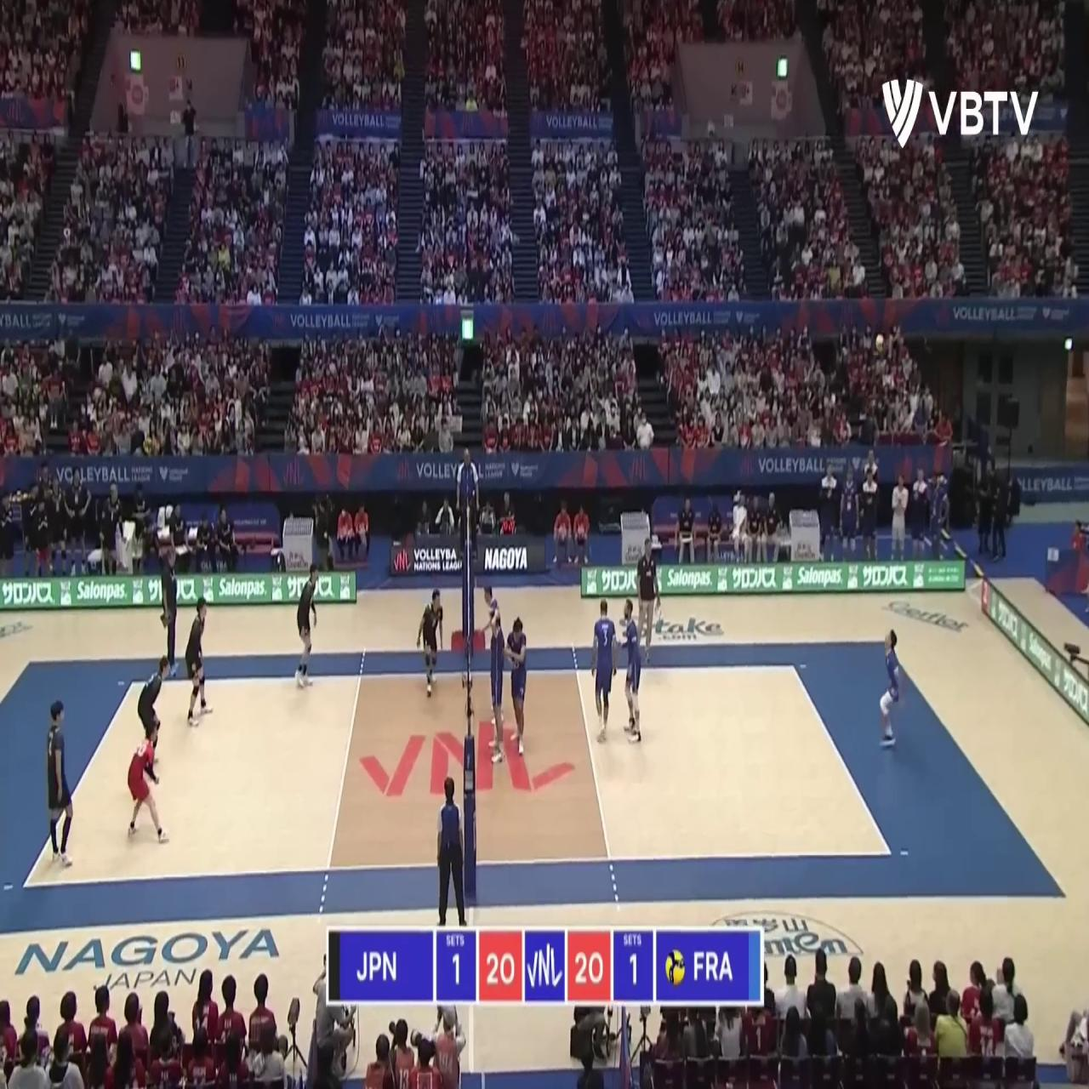ball: (876, 336, 884, 351)
